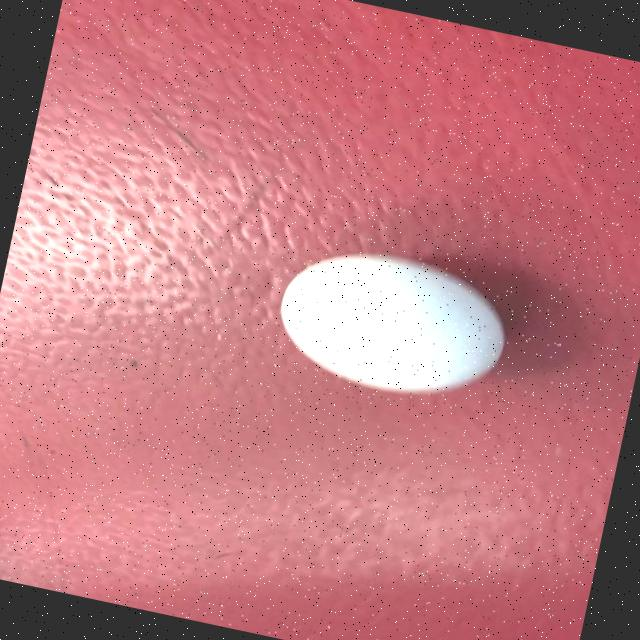ping-pong-ball: (251, 223, 533, 430)
